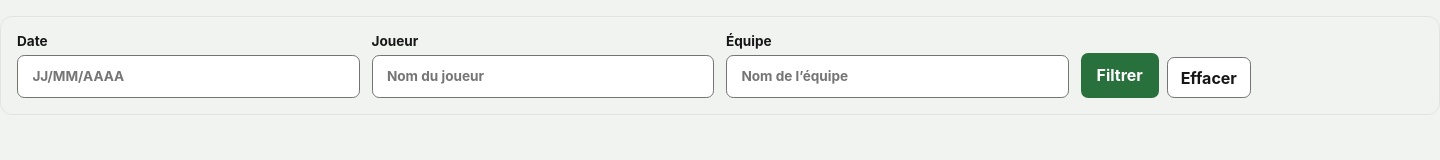
organization filter › is hidden for an Admin and clears filters
The width and height of the screenshot is (1440, 160).
Type "31/02/2026" into the field labelled "Date" at (188, 76), box [17,55,360,98]
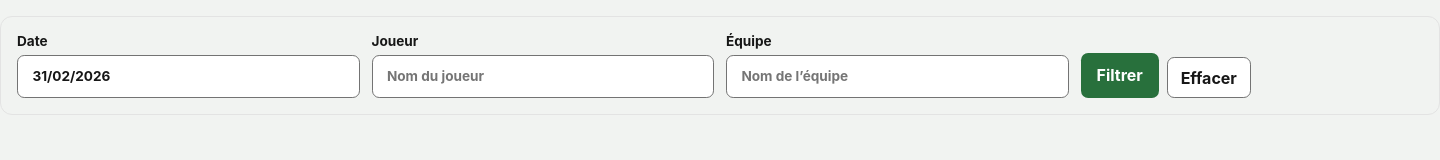
Click the button "Effacer" at (1209, 78), box [1167,57,1251,98]
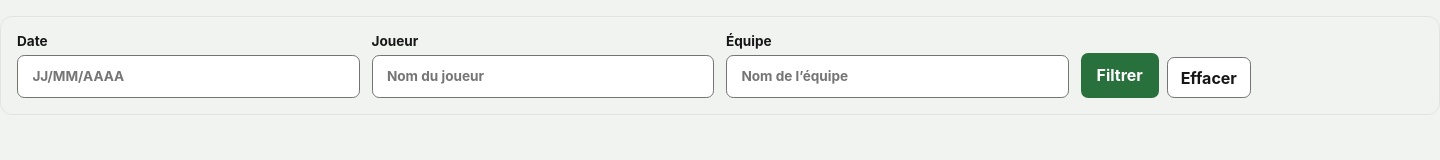
expect the field labelled "Date" is empty: met, box [17,55,360,98]
